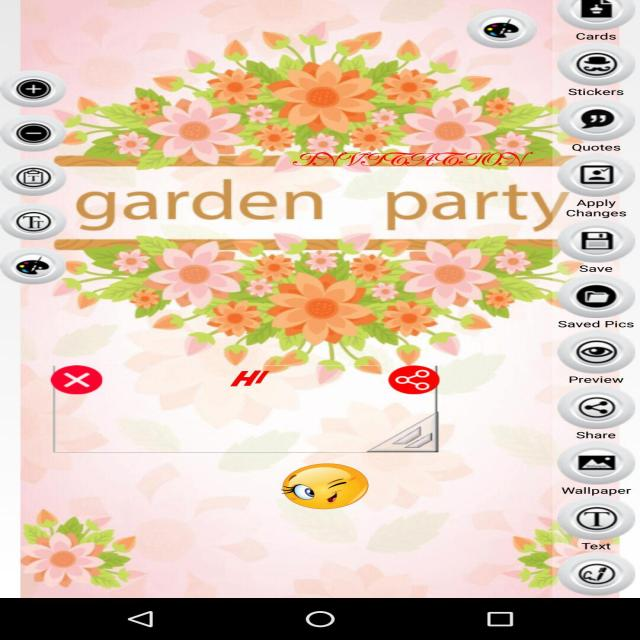button: (461, 1, 640, 596), (18, 71, 70, 311)
icon: (261, 446, 365, 512)
image: (80, 23, 572, 365)
text: (69, 157, 561, 240)
